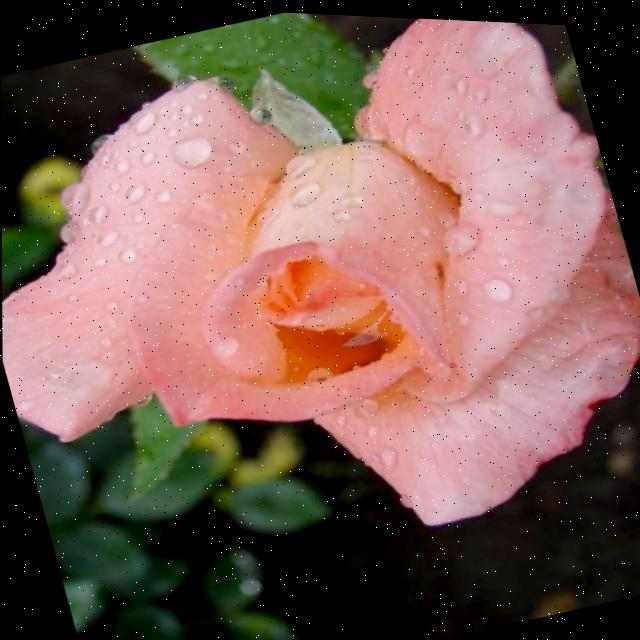rose: (0, 0, 640, 636)
